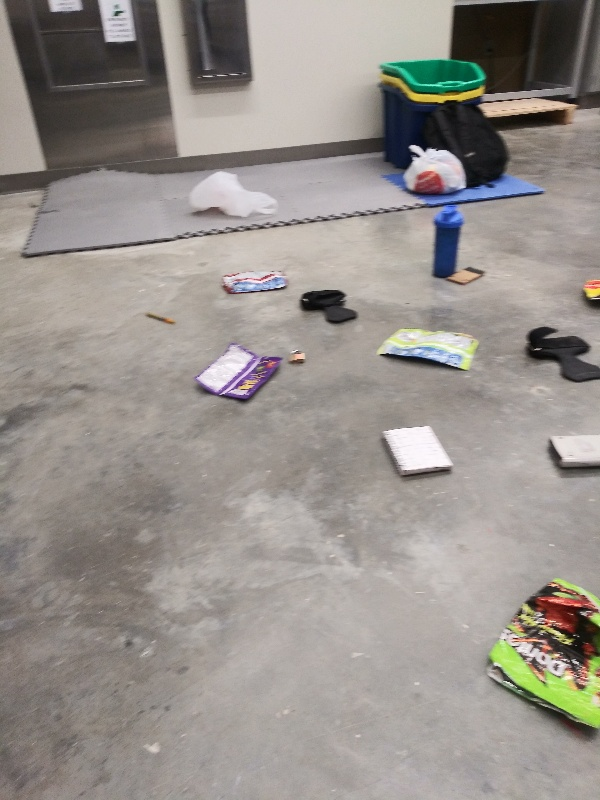bag: (480, 576, 600, 742), (193, 342, 288, 406), (372, 324, 485, 375), (214, 267, 292, 296), (575, 273, 600, 305)
